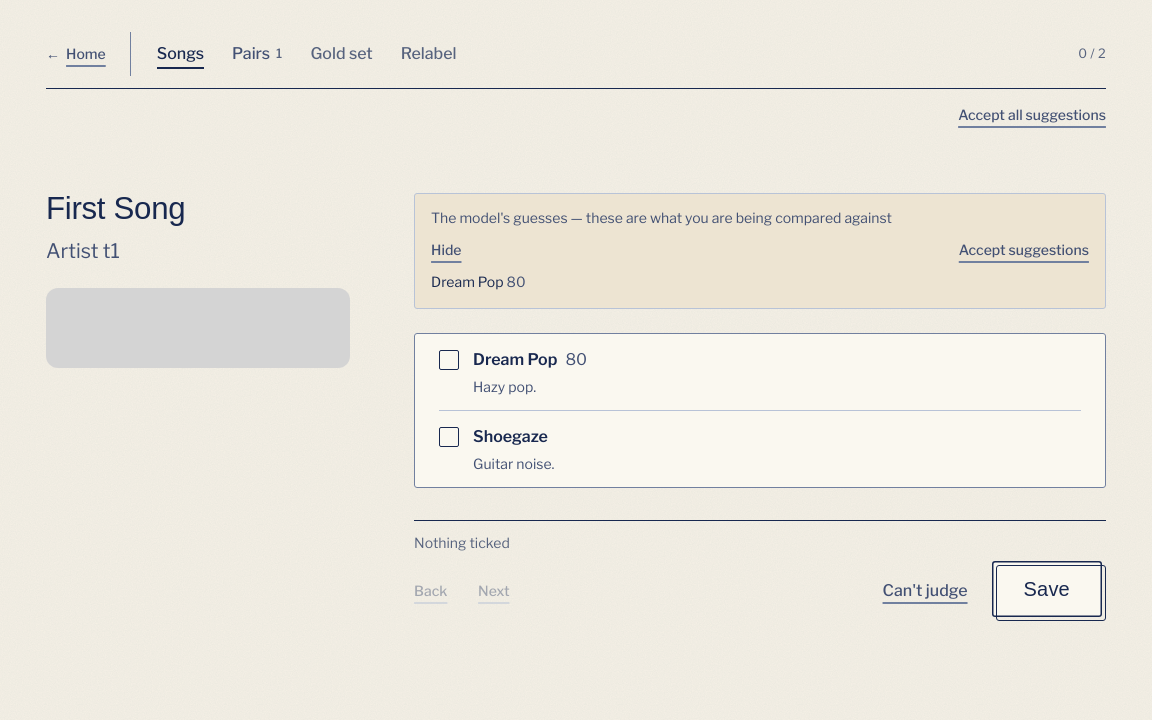
Test: /label prints in ink only › has no orange primary on a song, a pair or a finished queue
Expected: the heading "First Song" is shown, [46, 191, 185, 226]
Step 1. Click the button "Pairs 1" → coordinates (257, 54), box [222, 32, 292, 76]
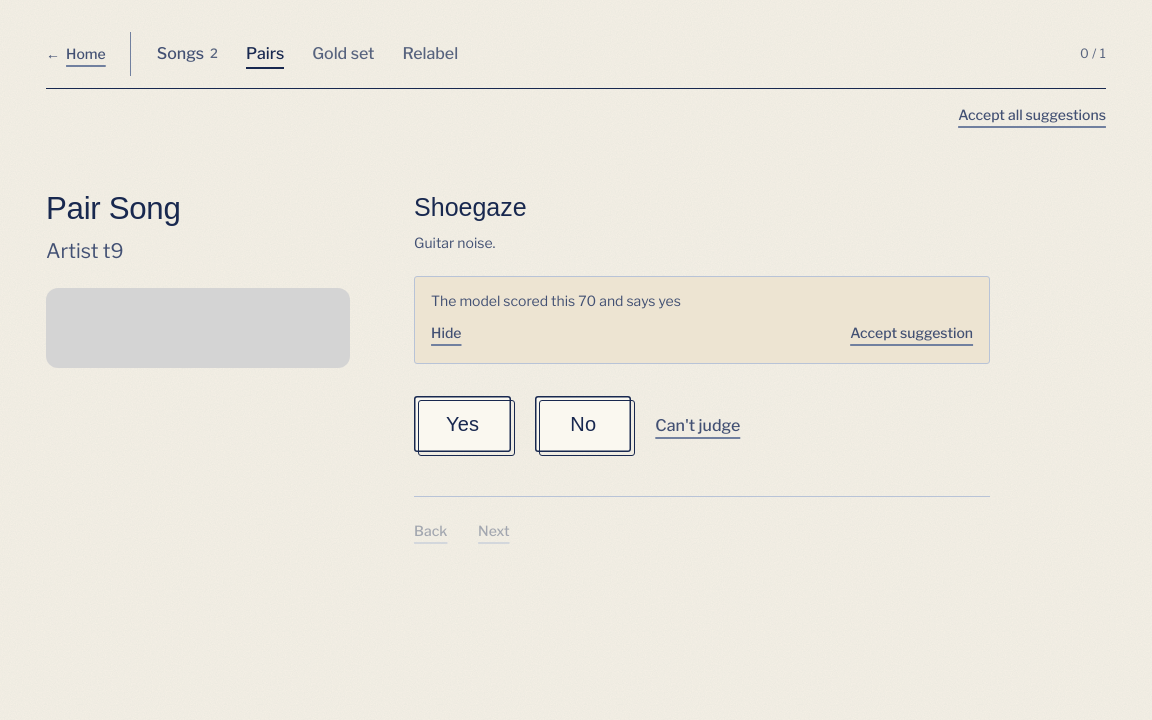
Result: the heading "Pair Song" is shown at [46, 191, 180, 226]
Step 2. Click the button "Yes" → coordinates (463, 424), box [414, 396, 511, 452]
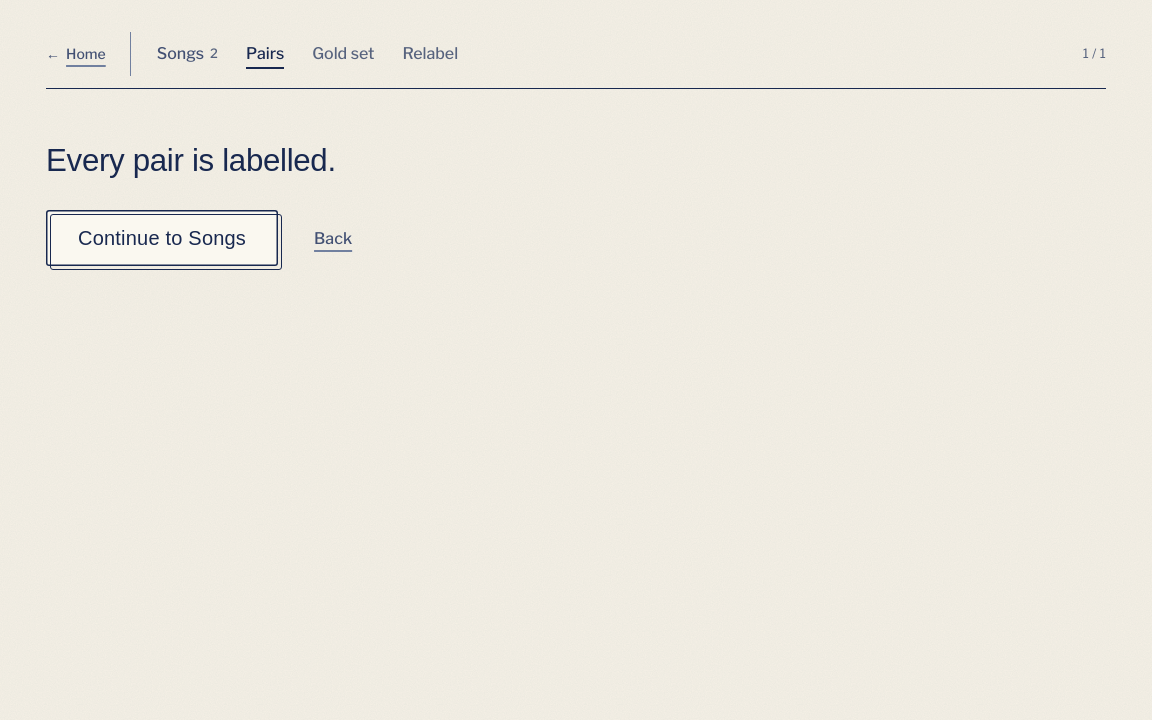
Result: the text "Every pair is labelled." is shown at [46, 143, 336, 178]
